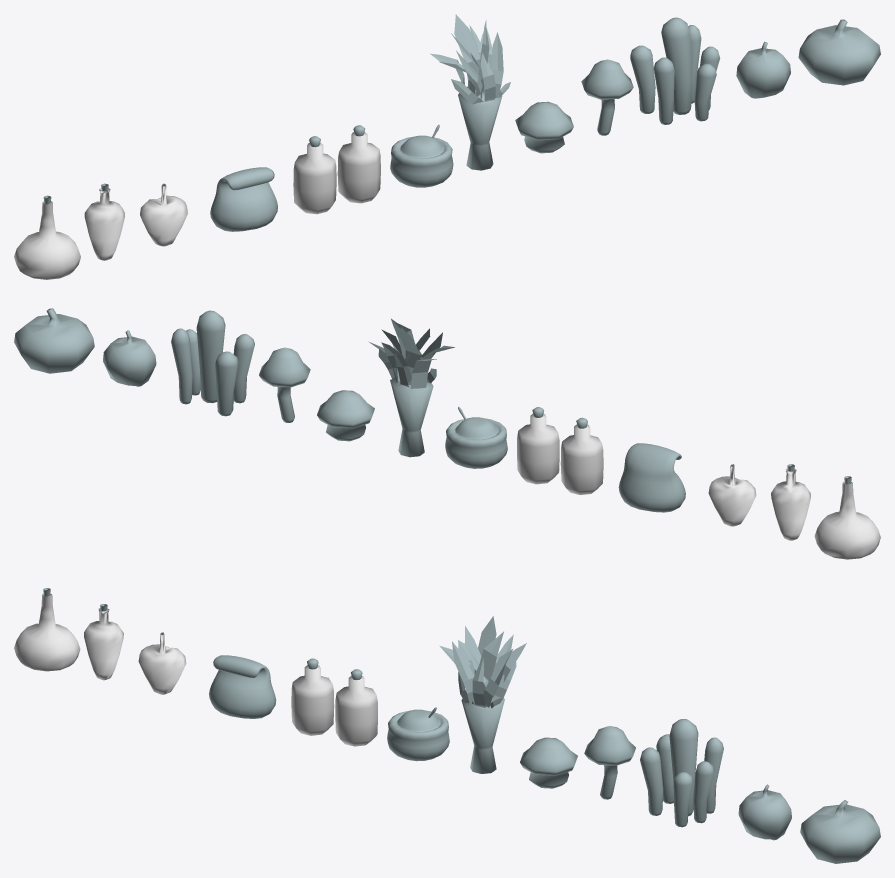
The model's file is pluvia products.fbx.
The picture shows the model from 3 angles, top to bottom: view 1: azimuth 30°, elevation 25°; view 2: azimuth 150°, elevation 25°; view 3: azimuth 330°, elevation 25°; orthographic projection.
Parts seen in each view (by area): view 1: grass, wheat bundle, pumpkin, seed bag, oil bottle v1, spice bag, jar v1, jar v2, apple, fat shroom, skinny shroom, oil bottle v2 (+1 smaller); view 2: grass, wheat bundle, pumpkin, seed bag, oil bottle v1, spice bag, jar v2, jar v1, apple, fat shroom, skinny shroom, oil bottle v2 (+1 smaller); view 3: grass, wheat bundle, pumpkin, seed bag, oil bottle v1, spice bag, jar v1, jar v2, apple, fat shroom, skinny shroom, oil bottle v2 (+1 smaller).
Part boxes in pixels (x1=…): grass: x1=630, y1=17, x2=720, y2=124; wheat bundle: x1=430, y1=14, x2=510, y2=170; pumpkin: x1=798, y1=19, x2=880, y2=85; seed bag: x1=210, y1=167, x2=277, y2=231; oil bottle v1: x1=14, y1=195, x2=80, y2=279; spice bag: x1=390, y1=124, x2=453, y2=187; jar v1: x1=293, y1=136, x2=336, y2=214; jar v2: x1=337, y1=125, x2=380, y2=203; apple: x1=736, y1=41, x2=790, y2=98; fat shroom: x1=515, y1=101, x2=573, y2=153; skinny shroom: x1=581, y1=59, x2=633, y2=135; oil bottle v2: x1=84, y1=183, x2=124, y2=260; grass: x1=171, y1=310, x2=254, y2=416; wheat bundle: x1=368, y1=318, x2=454, y2=457; pumpkin: x1=14, y1=308, x2=94, y2=373; seed bag: x1=618, y1=443, x2=685, y2=512; oil bottle v1: x1=814, y1=476, x2=880, y2=559; spice bag: x1=445, y1=406, x2=507, y2=468; jar v2: x1=517, y1=407, x2=559, y2=484; jar v1: x1=560, y1=417, x2=603, y2=494; apple: x1=103, y1=330, x2=156, y2=386; fat shroom: x1=317, y1=390, x2=374, y2=441; skinny shroom: x1=259, y1=347, x2=310, y2=422; oil bottle v2: x1=771, y1=464, x2=810, y2=540; grass: x1=640, y1=719, x2=723, y2=827; wheat bundle: x1=439, y1=616, x2=526, y2=773; pumpkin: x1=800, y1=800, x2=880, y2=863; seed bag: x1=209, y1=655, x2=276, y2=718; oil bottle v1: x1=14, y1=588, x2=80, y2=671; spice bag: x1=387, y1=707, x2=449, y2=761; jar v1: x1=291, y1=658, x2=334, y2=735; jar v2: x1=335, y1=669, x2=377, y2=746; apple: x1=738, y1=784, x2=791, y2=840; fat shroom: x1=520, y1=737, x2=577, y2=788; skinny shroom: x1=584, y1=726, x2=635, y2=799; oil bottle v2: x1=84, y1=604, x2=123, y2=680.
Size of the model in its own units: 713 by 111 by 58.2.
